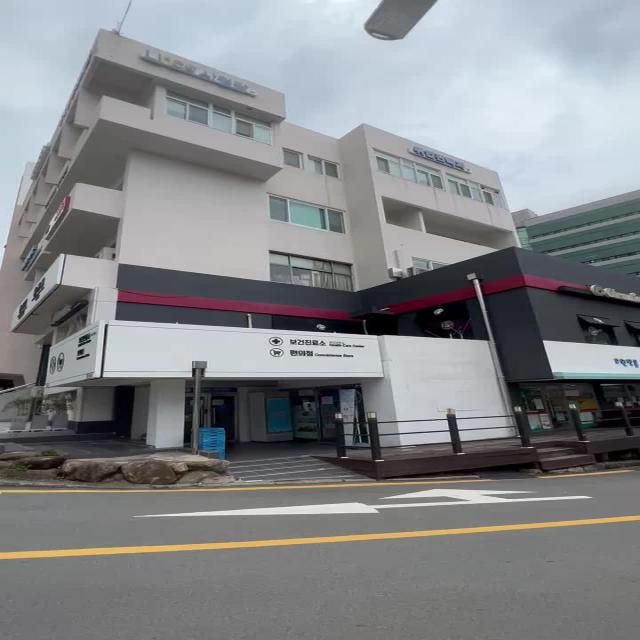building: (0, 42, 556, 440)
